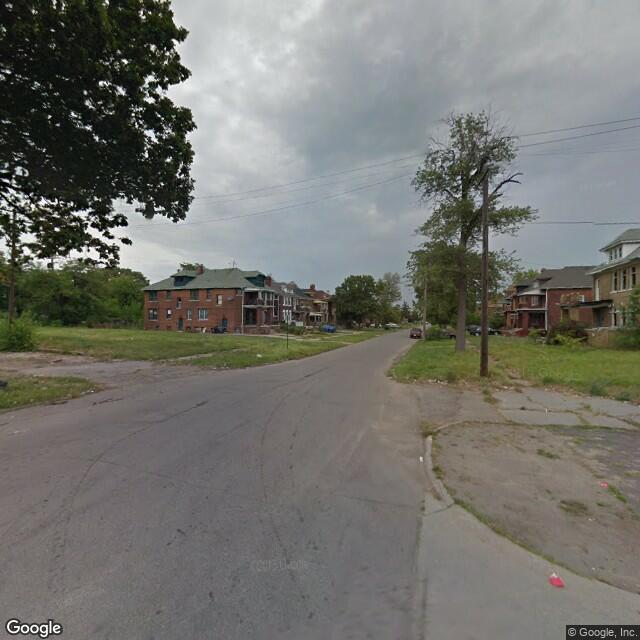litter: (548, 574, 566, 592), (417, 451, 422, 468), (426, 378, 440, 384), (599, 483, 610, 489), (88, 387, 98, 393), (255, 352, 263, 359), (498, 386, 509, 391), (621, 399, 631, 404)
